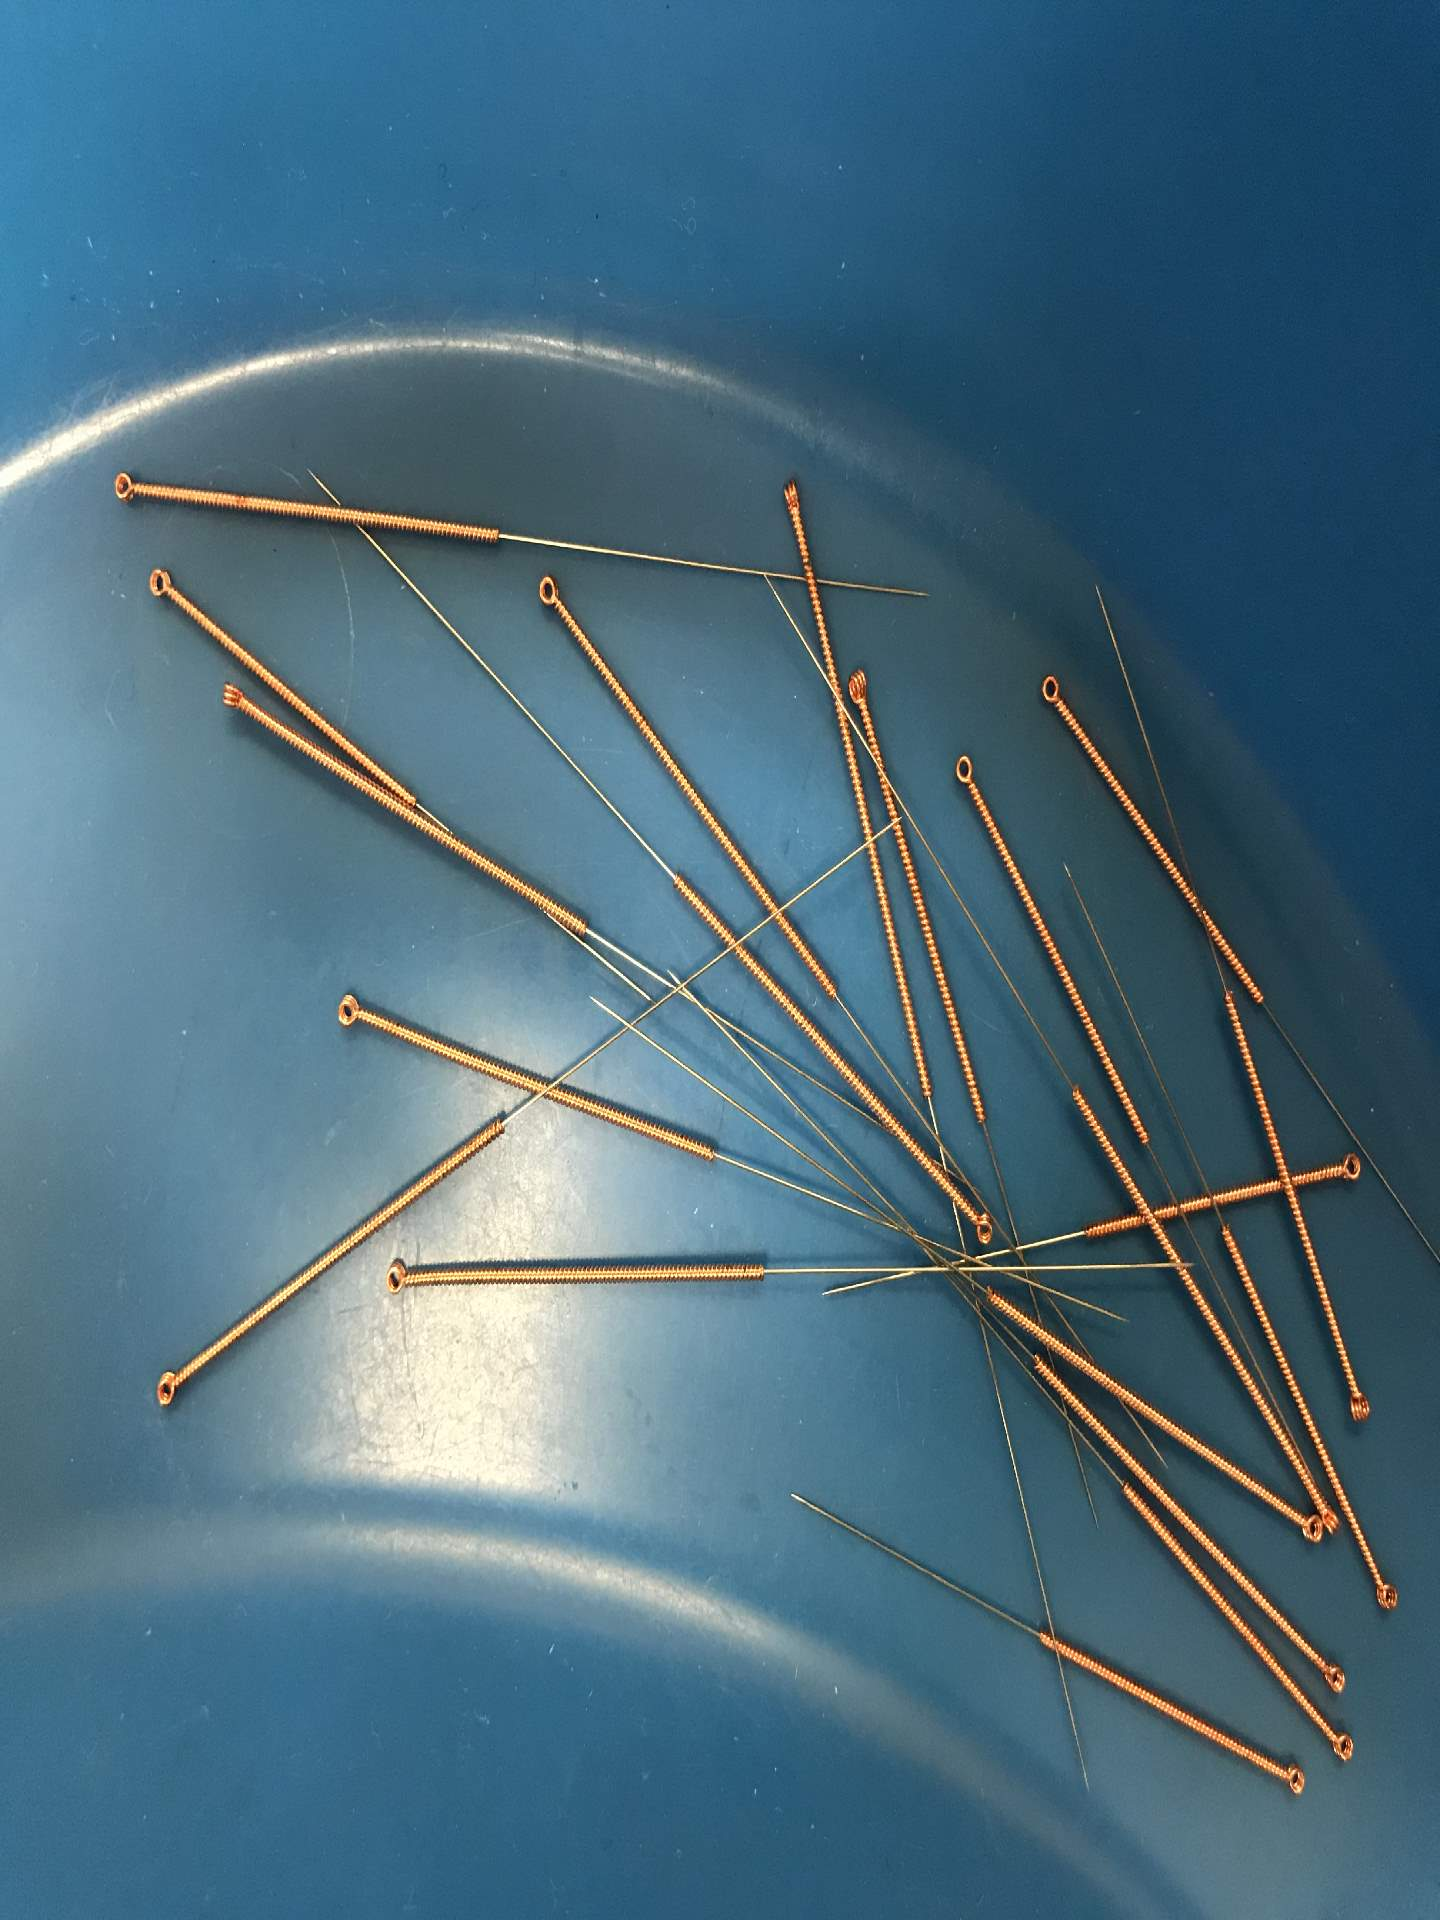needle: (372, 1250, 424, 1305), (1358, 1565, 1405, 1624), (1336, 1377, 1381, 1438), (144, 1361, 191, 1415), (1269, 1754, 1314, 1807), (1311, 1649, 1355, 1702), (327, 987, 371, 1039), (1324, 1144, 1370, 1191), (101, 463, 147, 511), (209, 674, 253, 724), (138, 556, 182, 606), (1317, 1723, 1361, 1772), (525, 568, 567, 618), (942, 747, 982, 800), (1032, 665, 1069, 715), (964, 1203, 1003, 1249), (771, 475, 808, 519), (843, 664, 874, 714), (1289, 1510, 1324, 1547), (1321, 1498, 1342, 1544)
